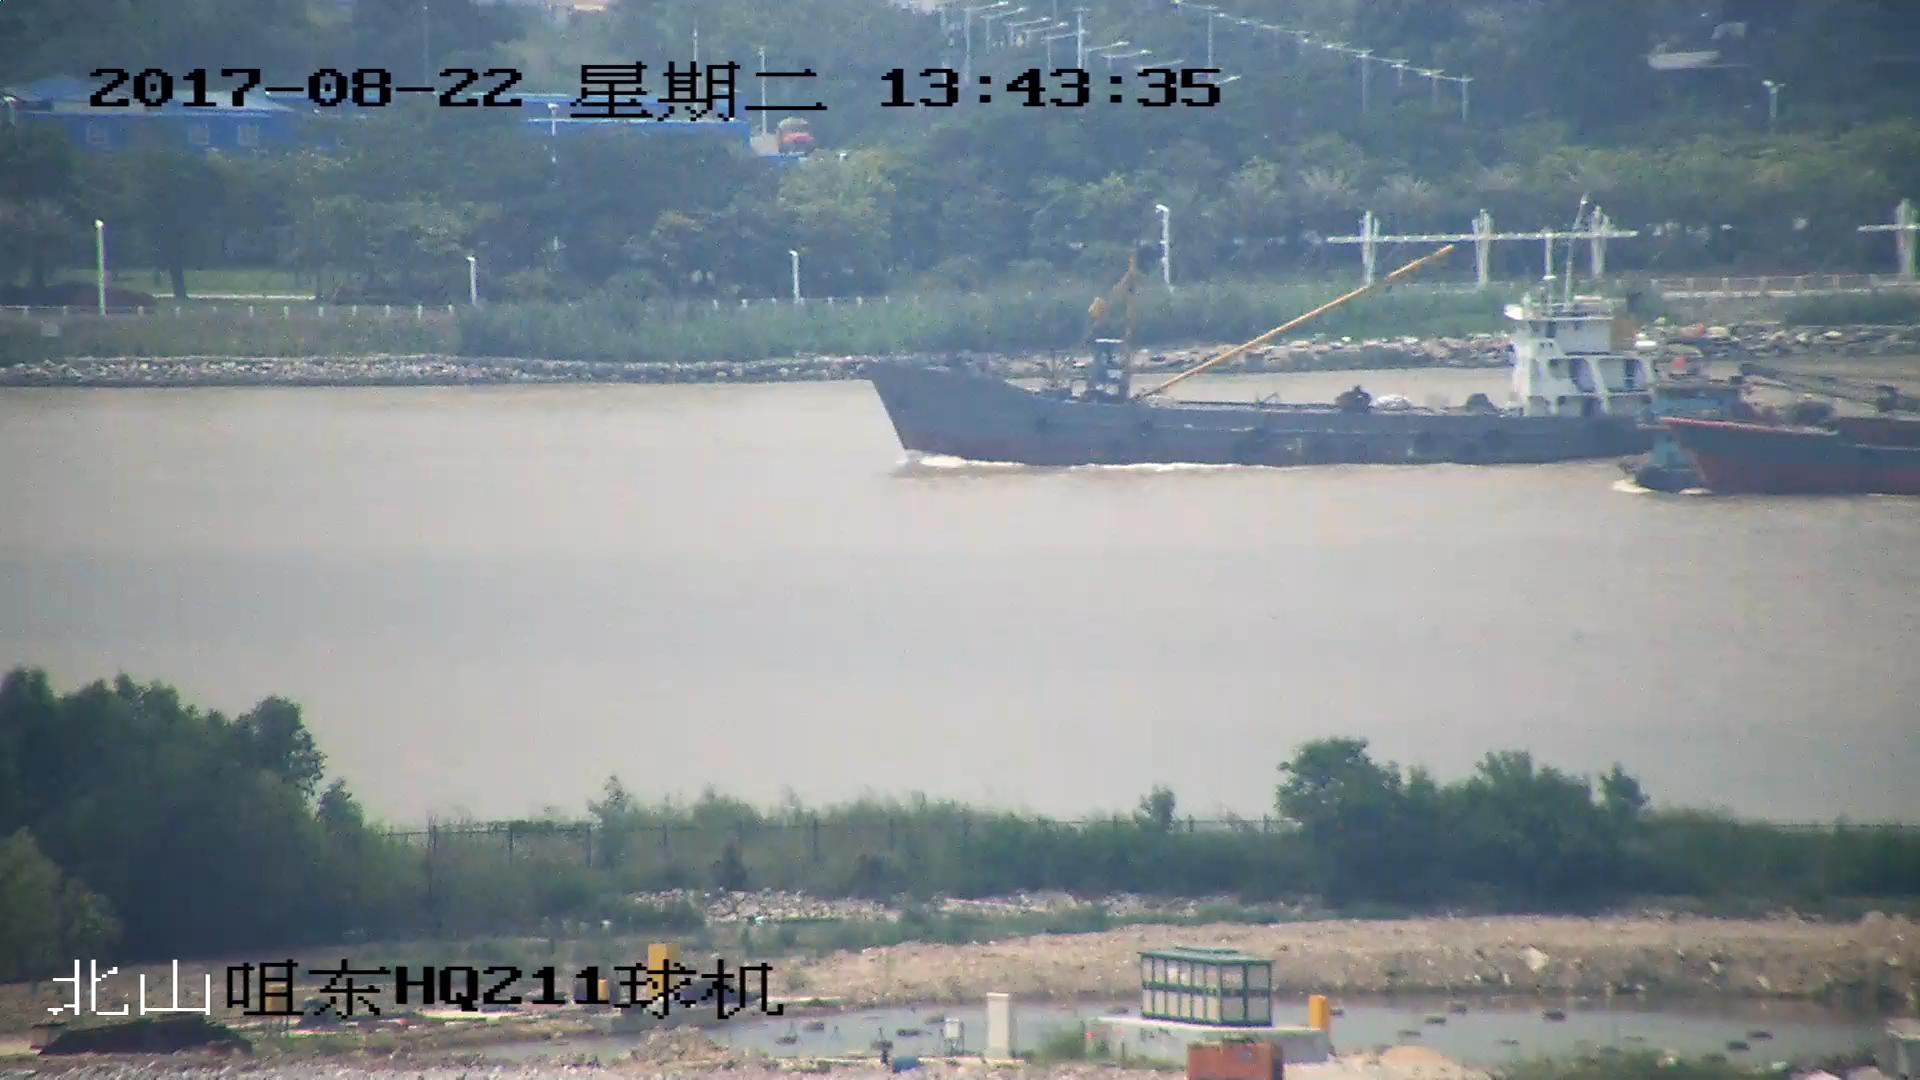fishing boat: (857, 236, 1712, 466), (1644, 361, 1920, 491)
